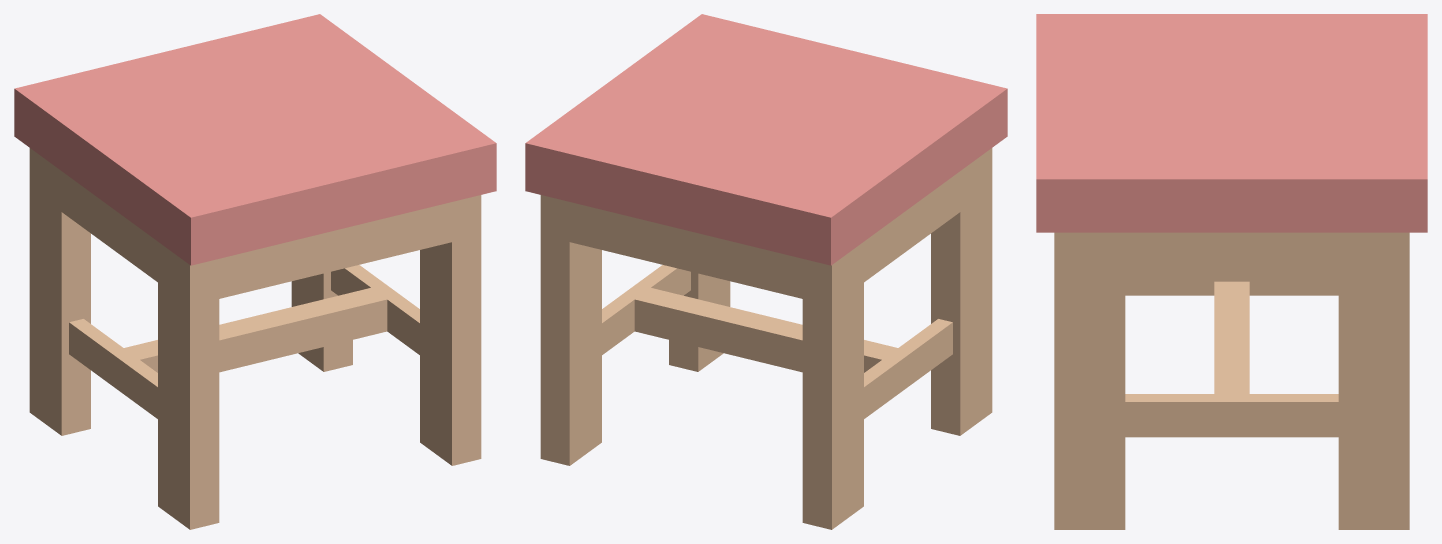
Rendered from kn-bench-cushion-low.glb.
The picture shows the model from 3 angles, left to right: view 1: azimuth 30°, elevation 25°; view 2: azimuth 150°, elevation 25°; view 3: azimuth 270°, elevation 25°; orthographic projection. The views are drawn at different scales.
Parts seen in each view (by area): view 1: benchCushionLow(Clone); view 2: benchCushionLow(Clone); view 3: benchCushionLow(Clone).
Boxes of the visible parts, x1=… form: benchCushionLow(Clone): x1=14, y1=14, x2=496, y2=529; benchCushionLow(Clone): x1=525, y1=14, x2=1007, y2=529; benchCushionLow(Clone): x1=1036, y1=14, x2=1427, y2=529.
Size of the model in its own units: 1 by 1 by 1.
